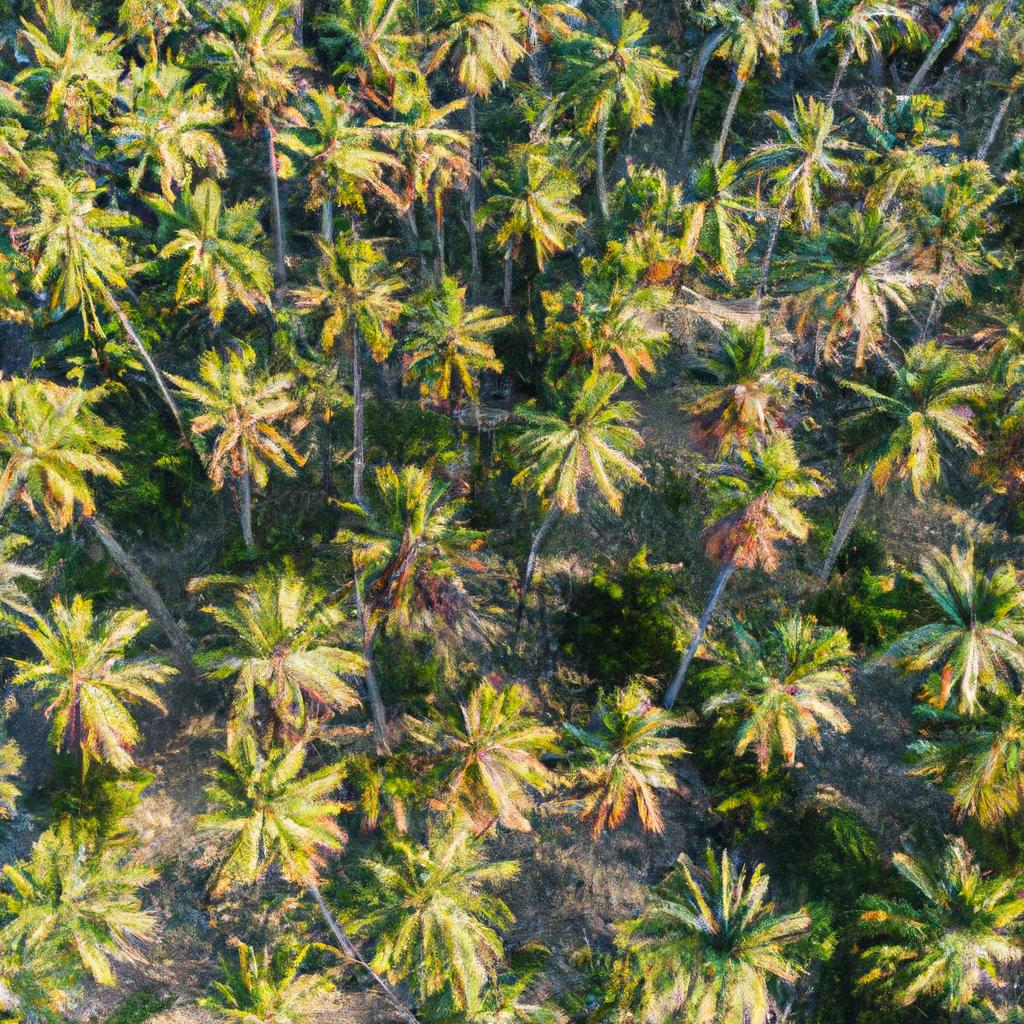coconut_tree: (840, 823, 1023, 1021), (623, 838, 804, 1022), (199, 728, 358, 901), (161, 335, 324, 496), (21, 596, 170, 770), (704, 605, 862, 767), (362, 832, 516, 997), (205, 574, 372, 723), (842, 340, 986, 504), (558, 666, 693, 837), (423, 675, 559, 835), (512, 374, 659, 516), (151, 186, 294, 321), (547, 8, 681, 140), (701, 440, 829, 578), (101, 51, 232, 183), (474, 134, 597, 267), (677, 315, 812, 435), (285, 228, 412, 348), (407, 272, 510, 407), (752, 97, 860, 223)
